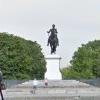Statue: (41, 14, 63, 64)
